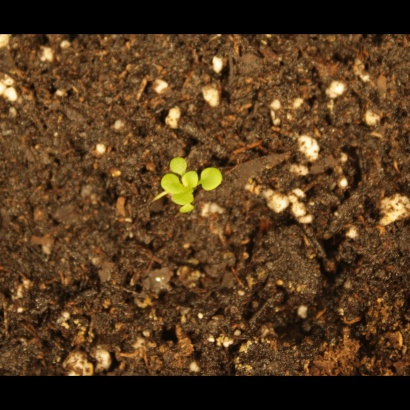leaf: (199, 166, 225, 192), (167, 153, 190, 176), (181, 169, 204, 192), (161, 173, 184, 196), (171, 185, 194, 208), (176, 199, 199, 222)
